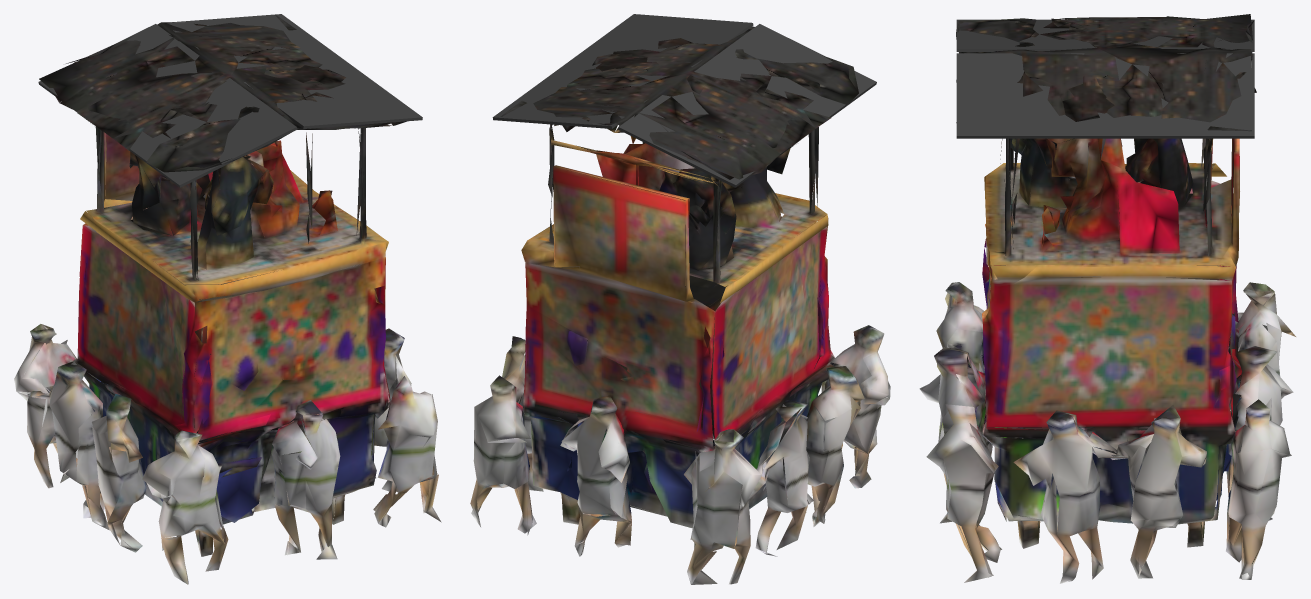
File: 郭巨山.glb
The picture shows the model from 3 angles, left to right: view 1: azimuth 30°, elevation 25°; view 2: azimuth 150°, elevation 25°; view 3: azimuth 270°, elevation 25°; orthographic projection. The views are drawn at different scales.
Visible parts, largest first — view 1: Mesh1.0, 平面, 平面.001; view 2: Mesh1.0, 平面, 平面.001; view 3: Mesh1.0, 平面, 平面.001.
Part boxes in pixels (left/top/right/bottom): Mesh1.0: left=14, top=15, right=441, bottom=584; 平面: left=167, top=14, right=422, bottom=128; 平面.001: left=38, top=24, right=297, bottom=187; Mesh1.0: left=470, top=26, right=890, bottom=584; 平面: left=492, top=14, right=753, bottom=128; 平面.001: left=618, top=24, right=876, bottom=187; Mesh1.0: left=919, top=14, right=1295, bottom=583; 平面: left=956, top=53, right=1254, bottom=138; 平面.001: left=956, top=19, right=1254, bottom=51.
Size of the model in its own units: 3.62 by 5.01 by 3.7.
Materials: 2 (1 with a texture image).
